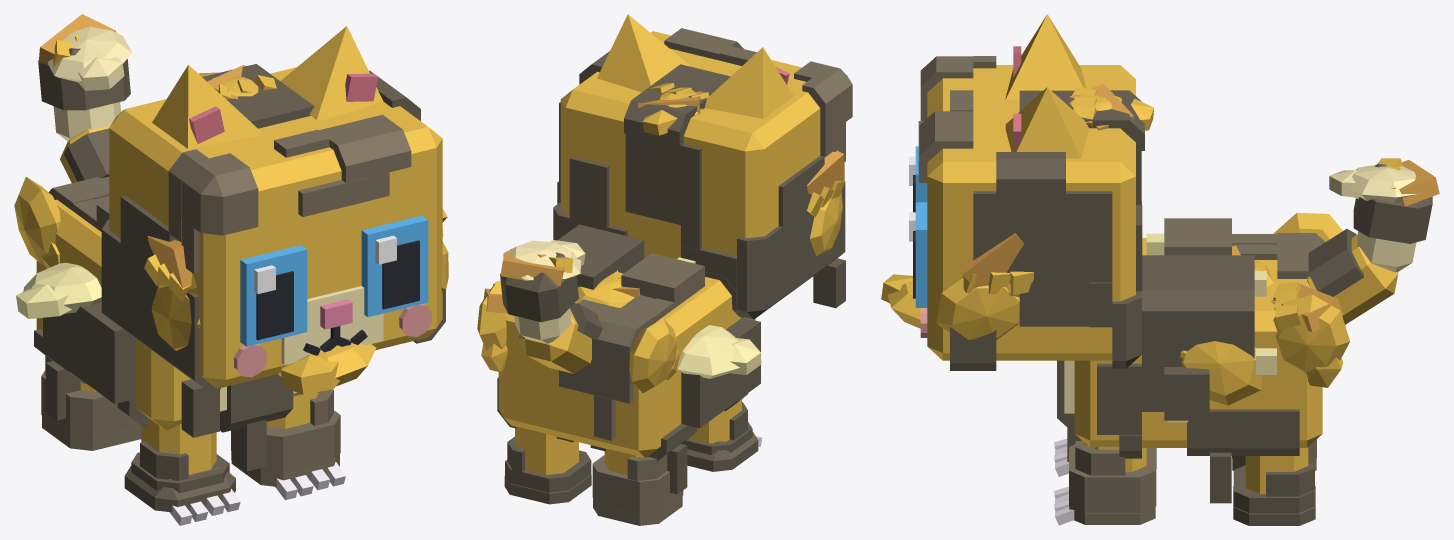
Rendered from CleanACat_Cat_Starcoat_Dirty.fbx.
3 renders of one model, left to right at view 1: azimuth 30°, elevation 25°; view 2: azimuth 150°, elevation 25°; view 3: azimuth 270°, elevation 25°, orthographic. The views are drawn at different scales.
Parts seen in each view (by area): view 1: CleanACat_Cat_Starcoat_Dirty_Head, CleanACat_Cat_Starcoat_Dirty_Mud01, CleanACat_Cat_Starcoat_Dirty_Mud03, CleanACat_Cat_Starcoat_Dirty_Mud06, CleanACat_Cat_Starcoat_Dirty_Mud10, CleanACat_Cat_Starcoat_Dirty_Eye2, CleanACat_Cat_Starcoat_Dirty_Eye1, CleanACat_Cat_Starcoat_Dirty_Body, CleanACat_Cat_Starcoat_Dirty_EarL, CleanACat_Cat_Starcoat_Dirty_Mud15, CleanACat_Cat_Starcoat_Dirty_EarR, CleanACat_Cat_Starcoat_Dirty_Mud16 (+20 smaller); view 2: CleanACat_Cat_Starcoat_Dirty_Head, CleanACat_Cat_Starcoat_Dirty_Body, CleanACat_Cat_Starcoat_Dirty_Mud01, CleanACat_Cat_Starcoat_Dirty_Mud04, CleanACat_Cat_Starcoat_Dirty_Mud09, CleanACat_Cat_Starcoat_Dirty_Mud18, CleanACat_Cat_Starcoat_Dirty_Mud10, CleanACat_Cat_Starcoat_Dirty_EarL, CleanACat_Cat_Starcoat_Dirty_EarR, CleanACat_Cat_Starcoat_Dirty_Mud12, CleanACat_Cat_Starcoat_Dirty_Mud05, CleanACat_Cat_Starcoat_Dirty_Tail (+22 smaller); view 3: CleanACat_Cat_Starcoat_Dirty_Head, CleanACat_Cat_Starcoat_Dirty_Mud02, CleanACat_Cat_Starcoat_Dirty_Mud08, CleanACat_Cat_Starcoat_Dirty_Body, CleanACat_Cat_Starcoat_Dirty_Mud15, CleanACat_Cat_Starcoat_Dirty_Mud11, CleanACat_Cat_Starcoat_Dirty_Fluff09, CleanACat_Cat_Starcoat_Dirty_Mud17, CleanACat_Cat_Starcoat_Dirty_EarL, CleanACat_Cat_Starcoat_Dirty_Tail, CleanACat_Cat_Starcoat_Dirty_EarR, CleanACat_Cat_Starcoat_Dirty_Mud13 (+22 smaller).
Part boxes in pixels (bbox=[...]): CleanACat_Cat_Starcoat_Dirty_Head: bbox=[109, 67, 442, 388]; CleanACat_Cat_Starcoat_Dirty_Mud01: bbox=[101, 195, 220, 437]; CleanACat_Cat_Starcoat_Dirty_Mud03: bbox=[274, 114, 411, 216]; CleanACat_Cat_Starcoat_Dirty_Mud06: bbox=[168, 149, 258, 274]; CleanACat_Cat_Starcoat_Dirty_Mud10: bbox=[43, 301, 147, 427]; CleanACat_Cat_Starcoat_Dirty_Eye2: bbox=[240, 245, 307, 346]; CleanACat_Cat_Starcoat_Dirty_Eye1: bbox=[361, 215, 428, 316]; CleanACat_Cat_Starcoat_Dirty_Body: bbox=[36, 199, 324, 430]; CleanACat_Cat_Starcoat_Dirty_EarL: bbox=[280, 26, 383, 119]; CleanACat_Cat_Starcoat_Dirty_Mud15: bbox=[231, 389, 340, 486]; CleanACat_Cat_Starcoat_Dirty_EarR: bbox=[152, 65, 262, 148]; CleanACat_Cat_Starcoat_Dirty_Mud16: bbox=[124, 442, 235, 512]; CleanACat_Cat_Starcoat_Dirty_Head: bbox=[560, 31, 844, 258]; CleanACat_Cat_Starcoat_Dirty_Body: bbox=[498, 257, 755, 458]; CleanACat_Cat_Starcoat_Dirty_Mud01: bbox=[681, 155, 845, 319]; CleanACat_Cat_Starcoat_Dirty_Mud04: bbox=[624, 64, 730, 249]; CleanACat_Cat_Starcoat_Dirty_Mud09: bbox=[559, 295, 655, 440]; CleanACat_Cat_Starcoat_Dirty_Mud18: bbox=[592, 454, 683, 525]; CleanACat_Cat_Starcoat_Dirty_Mud10: bbox=[681, 272, 760, 428]; CleanACat_Cat_Starcoat_Dirty_EarL: bbox=[597, 14, 690, 92]; CleanACat_Cat_Starcoat_Dirty_EarR: bbox=[705, 47, 793, 118]; CleanACat_Cat_Starcoat_Dirty_Mud12: bbox=[621, 253, 704, 323]; CleanACat_Cat_Starcoat_Dirty_Mud05: bbox=[553, 156, 627, 240]; CleanACat_Cat_Starcoat_Dirty_Tail: bbox=[514, 308, 591, 373]; CleanACat_Cat_Starcoat_Dirty_Head: bbox=[920, 65, 1135, 360]; CleanACat_Cat_Starcoat_Dirty_Mud02: bbox=[950, 152, 1112, 370]; CleanACat_Cat_Starcoat_Dirty_Mud08: bbox=[1142, 255, 1254, 420]; CleanACat_Cat_Starcoat_Dirty_Body: bbox=[1064, 233, 1322, 447]; CleanACat_Cat_Starcoat_Dirty_Mud15: bbox=[1069, 441, 1156, 524]; CleanACat_Cat_Starcoat_Dirty_Mud11: bbox=[1187, 409, 1299, 503]; CleanACat_Cat_Starcoat_Dirty_Fluff09: bbox=[1273, 294, 1349, 387]; CleanACat_Cat_Starcoat_Dirty_Mud17: bbox=[1233, 463, 1315, 525]; CleanACat_Cat_Starcoat_Dirty_EarL: bbox=[1005, 87, 1088, 158]; CleanACat_Cat_Starcoat_Dirty_Tail: bbox=[1307, 231, 1416, 324]; CleanACat_Cat_Starcoat_Dirty_EarR: bbox=[1005, 14, 1086, 99]; CleanACat_Cat_Starcoat_Dirty_Mud13: bbox=[1097, 363, 1141, 458].
Bounding box in the file's own units: 1.23 × 1.86 × 2.14.
Materials: 1 (1 with a texture image).
